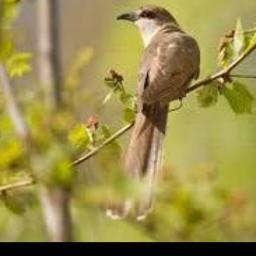Cuckoo: (108, 4, 201, 220)
